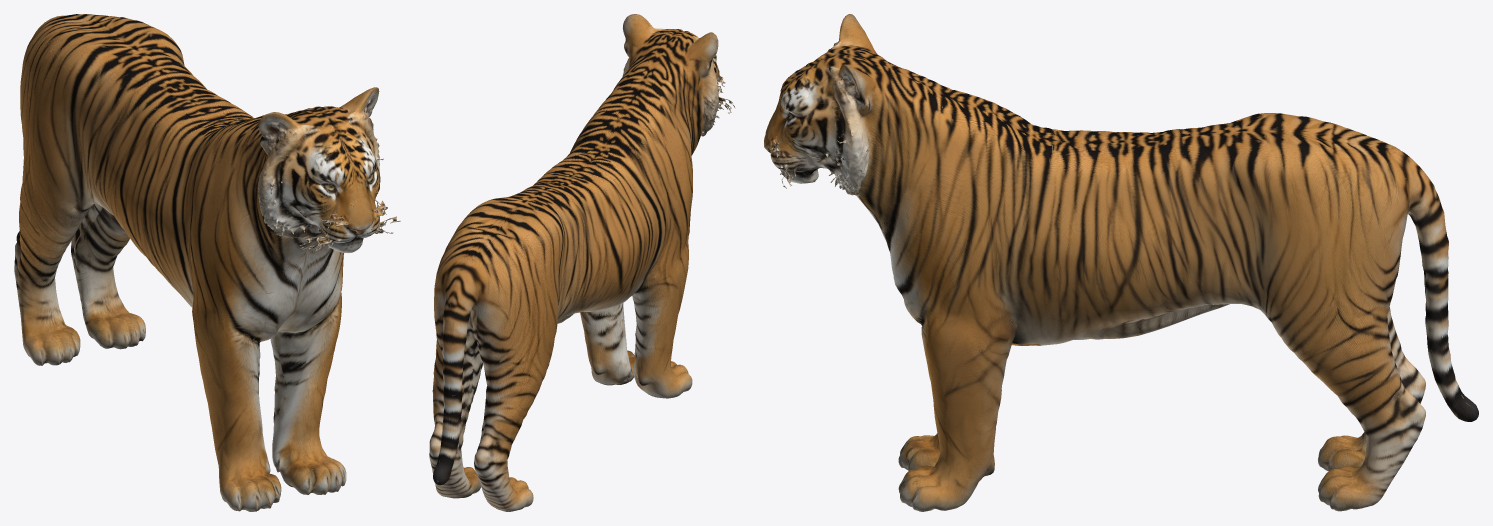
File: Meshy_AI_Majestic_Tiger_0513081643_texture.fbx
3 views of the same model, side by side, from view 1: azimuth 30°, elevation 25°; view 2: azimuth 150°, elevation 25°; view 3: azimuth 270°, elevation 25° (orthographic). The views are drawn at different scales.
Visible parts, largest first — view 1: Mesh1.0; view 2: Mesh1.0; view 3: Mesh1.0.
Boxes of the visible parts, left/top/right/bottom form: Mesh1.0: left=14, top=14, right=400, bottom=511; Mesh1.0: left=429, top=14, right=735, bottom=511; Mesh1.0: left=764, top=14, right=1478, bottom=511.
Size of the model in its own units: 44.26 by 131 by 191.
Materials: 1 (1 with a texture image).
